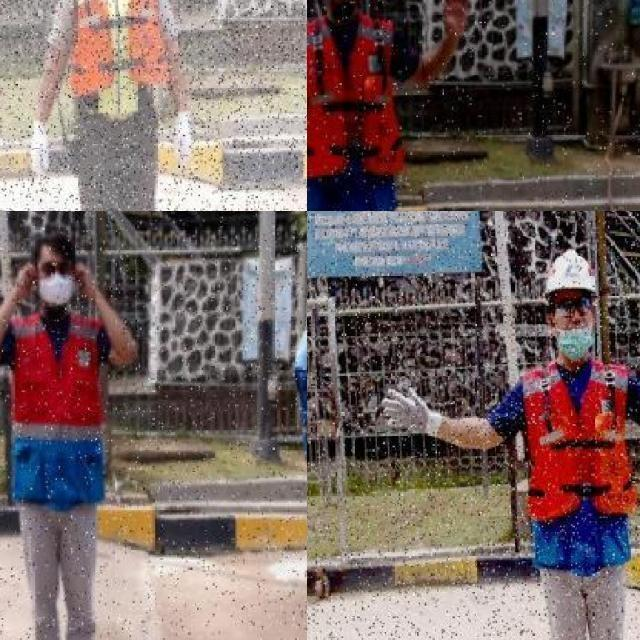apron: (380, 386, 442, 442), (29, 118, 52, 182), (172, 108, 194, 172)
